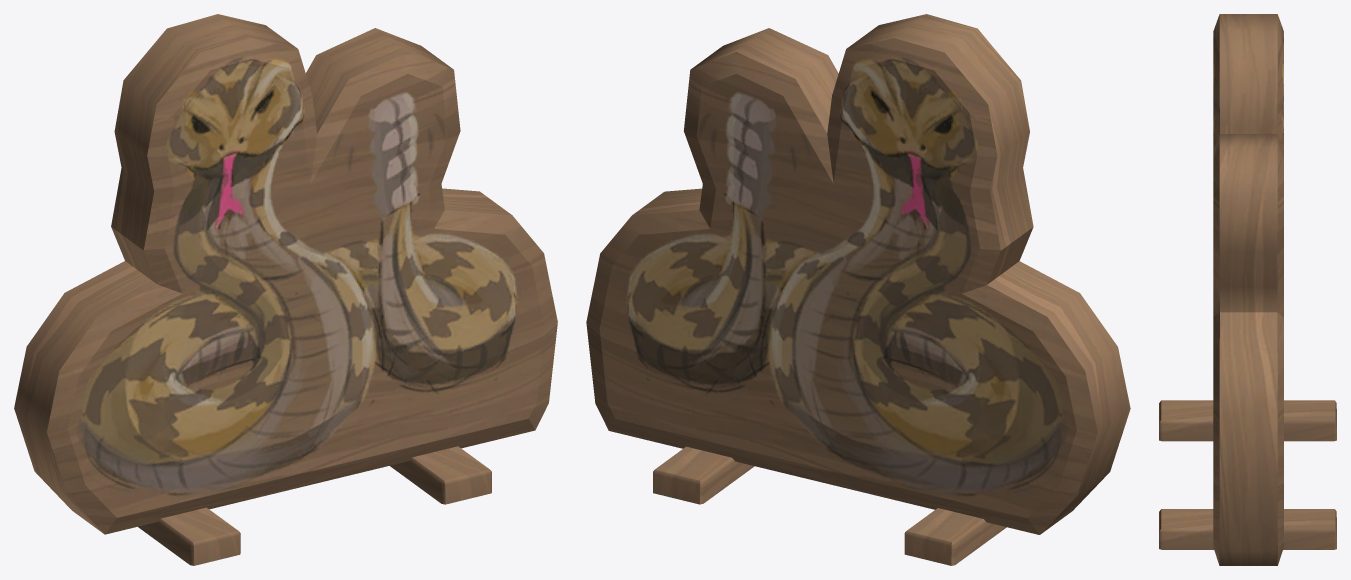
Rendered from snake cutout.glb.
The picture shows the model from 3 angles, left to right: view 1: azimuth 30°, elevation 25°; view 2: azimuth 150°, elevation 25°; view 3: azimuth 270°, elevation 25°; orthographic projection. The views are drawn at different scales.
Visible parts, largest first — view 1: Standee_Snake_LOD0; view 2: Standee_Snake_LOD0; view 3: Standee_Snake_LOD0.
Boxes of the visible parts, x1,y1,x2,y2 form: Standee_Snake_LOD0: (14,14,557,565); Standee_Snake_LOD0: (586,14,1130,565); Standee_Snake_LOD0: (1159,14,1336,565).
Size of the model in its own units: 0.725 by 0.6518 by 0.2468.
Materials: 1 (1 with a texture image).
